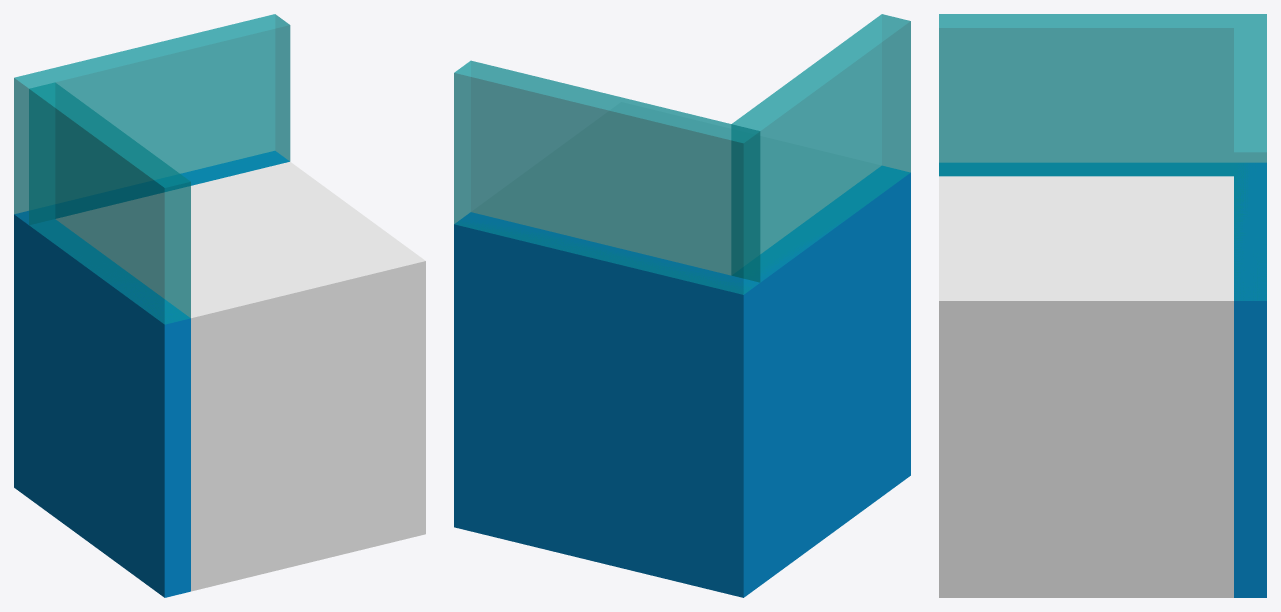
The picture shows the model from 3 angles, left to right: view 1: azimuth 30°, elevation 25°; view 2: azimuth 150°, elevation 25°; view 3: azimuth 270°, elevation 25°; orthographic projection. The views are drawn at different scales.
Parts seen in each view (by area): view 1: 5, 立方体.008, 立方体.011; view 2: 5, 立方体.008, 立方体.011; view 3: 5, 立方体.011, 立方体.008.
Part boxes in pixels (x1,y1,x2,y2): 5: [14, 151, 425, 597]; 立方体.008: [14, 14, 290, 224]; 立方体.011: [29, 82, 190, 324]; 5: [454, 102, 910, 597]; 立方体.008: [454, 60, 760, 294]; 立方体.011: [731, 14, 910, 282]; 5: [939, 162, 1266, 597]; 立方体.011: [939, 14, 1233, 176]; 立方体.008: [1234, 14, 1266, 300].
Size of the model in its own units: 2000 by 3000 by 2000.
